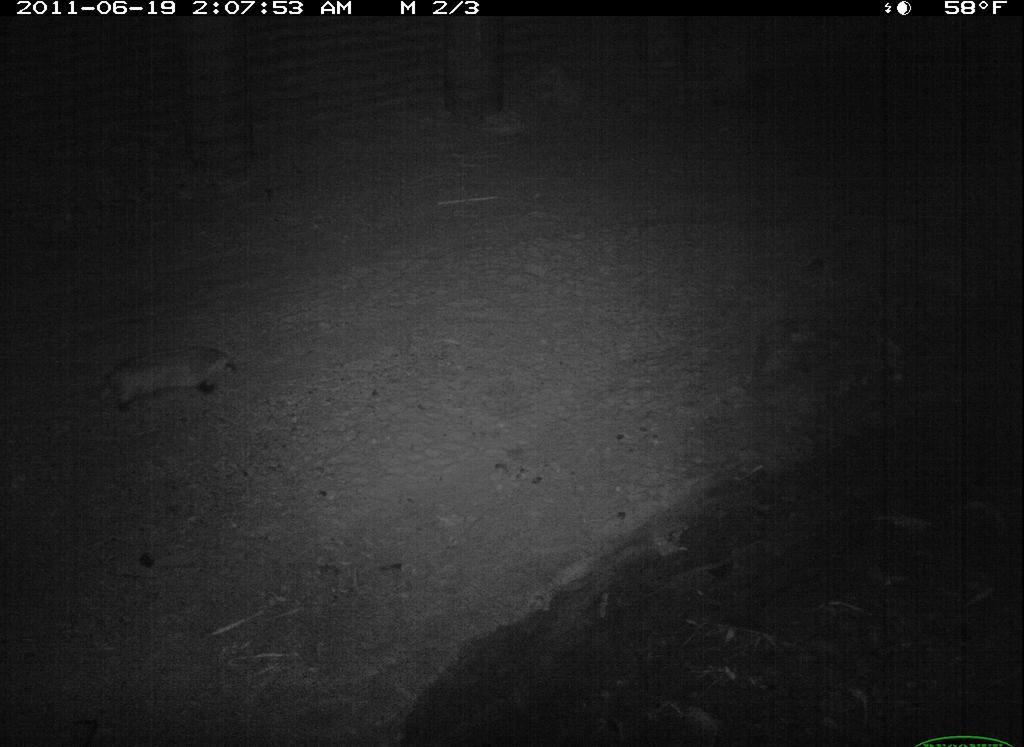badger: (95, 341, 245, 418)
